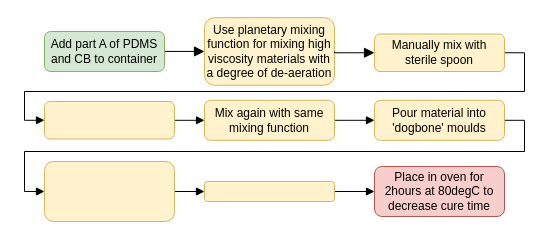
This 550x239 diagram has some shape labels left out. The shapes that lost their labels are listed below. From the top down, each one's centre as x and y in pixels, then its label:
(109,119): Add part B (crosslinker) to mixture
(109,191): Place in a vacuum chamber for 10mins to relieve the material of air bubbles
(269,191): Clamp mold closed
